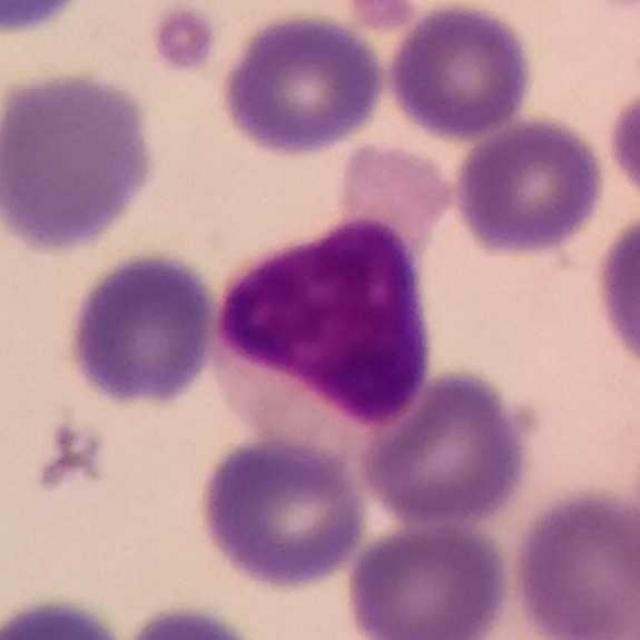Lymphocyte: (207, 136, 455, 446)
Platelets: (147, 2, 220, 78)
RBC: (0, 64, 161, 257), (355, 364, 537, 529), (194, 432, 372, 593), (62, 247, 222, 412), (216, 9, 388, 159), (451, 113, 610, 260), (341, 515, 515, 640), (385, 1, 538, 141), (507, 485, 639, 640), (589, 207, 640, 380), (0, 591, 138, 640), (117, 600, 276, 640), (603, 80, 640, 214), (0, 0, 91, 36)
